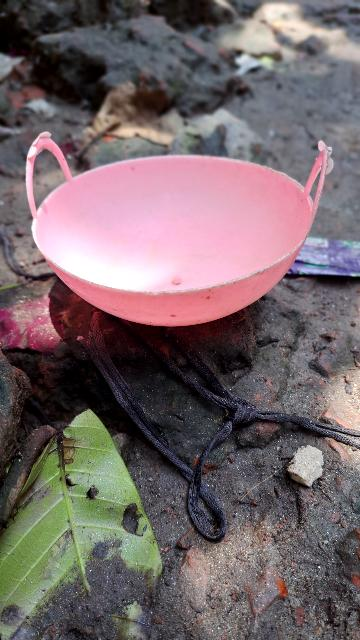hardplastic: (33, 139, 323, 323)
